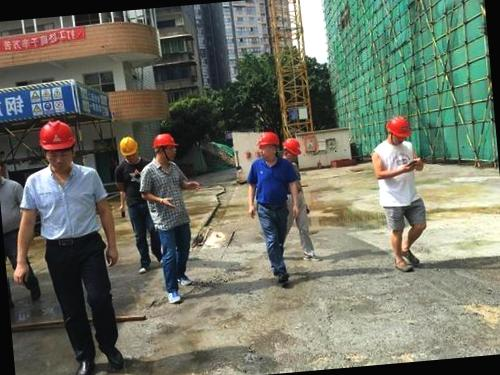helmet: (32, 116, 82, 156), (383, 112, 417, 147), (250, 131, 284, 157), (114, 134, 141, 160)
no_vest: (16, 163, 108, 249), (138, 160, 192, 230), (370, 137, 423, 206), (242, 152, 299, 208)
person: (15, 112, 130, 375), (241, 127, 305, 297), (143, 132, 202, 314), (371, 111, 433, 277)
